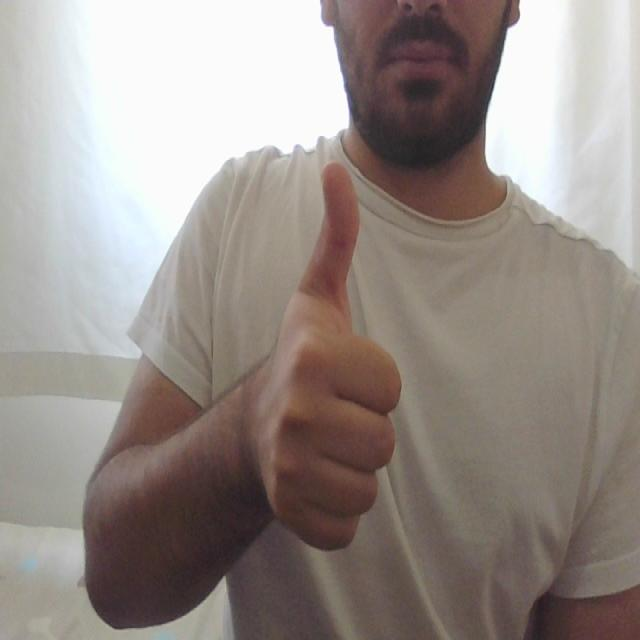Tamam: (241, 147, 406, 558)
